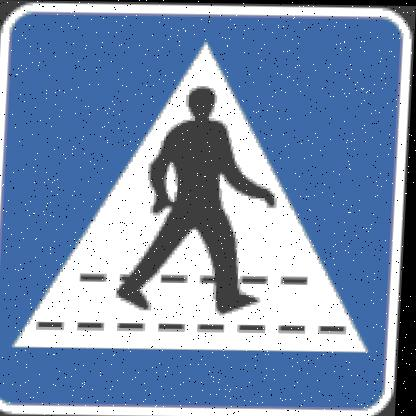Pedestrian Crossing: (5, 17, 397, 373)
